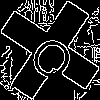O: (25, 25, 83, 85)
